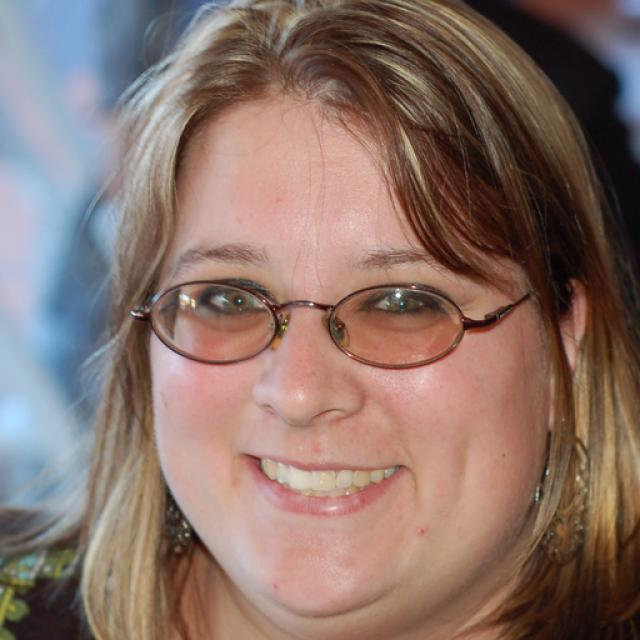happy: (145, 88, 556, 618)
